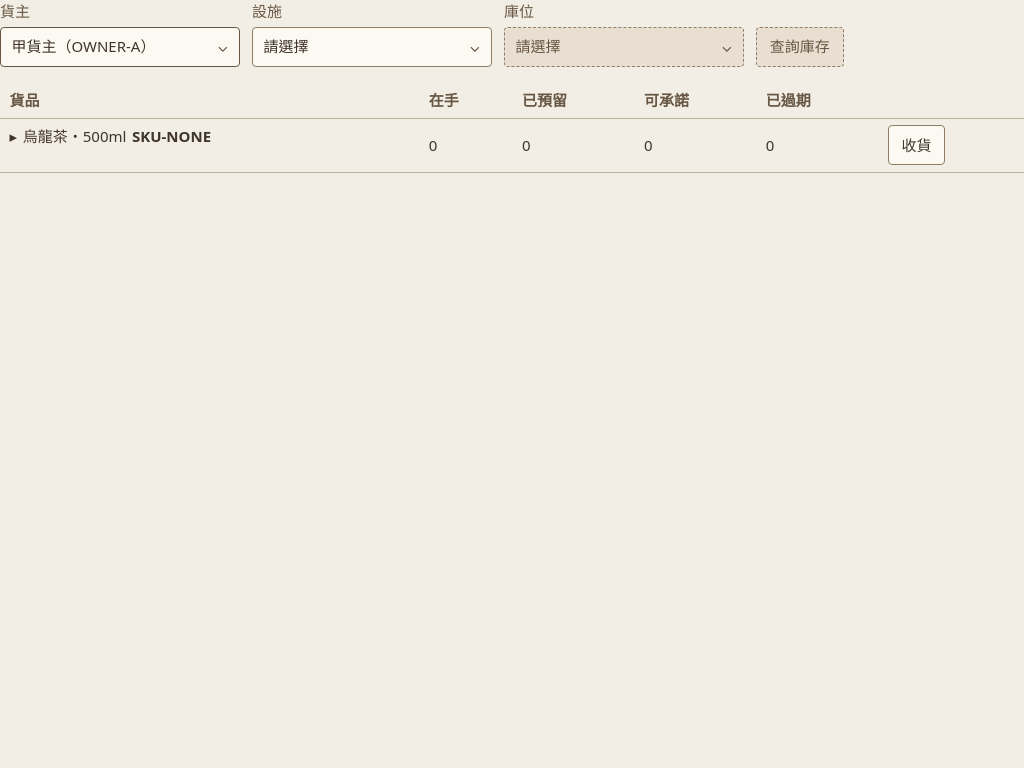
Test: StockPanel 的貨品列表 › 這個倉沒有的規格顯示 0，而且照樣補得了貨
Expected: the text "0" is shown 4 times, [419,118,512,172]; [512,118,634,172]; [634,118,756,172]; [756,118,878,172]
Click the button "收貨" at (917, 145), box [888,125,945,165]
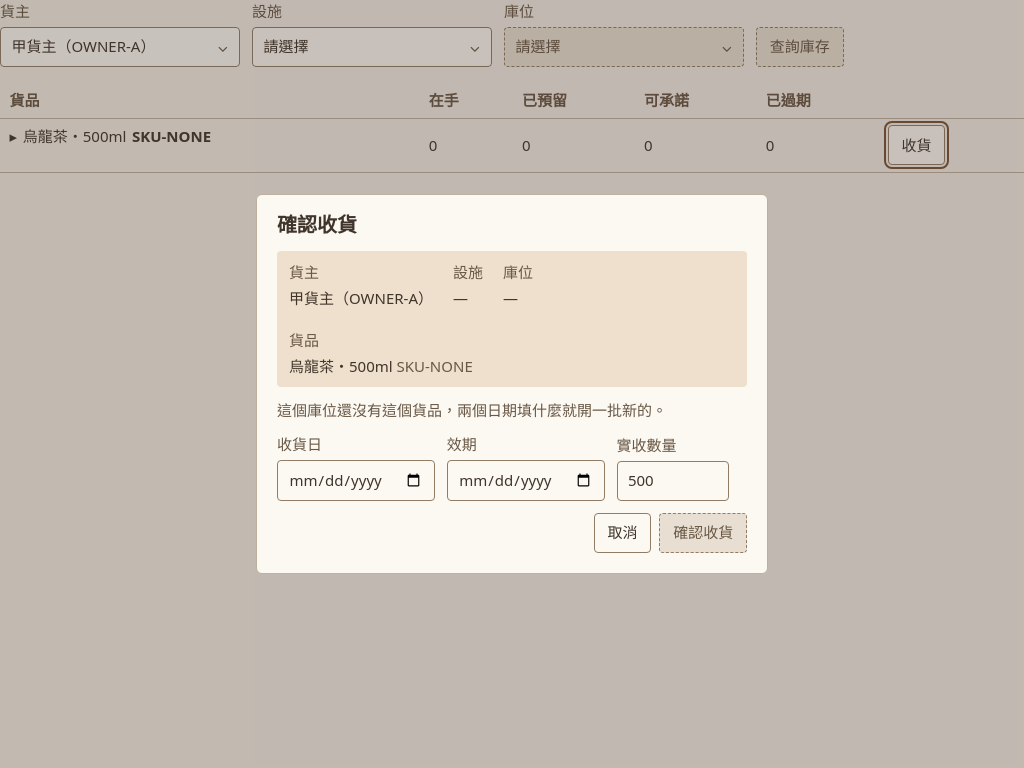
Expected: the dialog is shown, [256,194,768,574]
